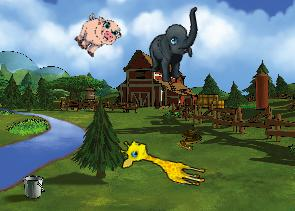elephant: (142, 7, 208, 84)
giraffe: (116, 137, 210, 188)
pig: (69, 7, 125, 63)
